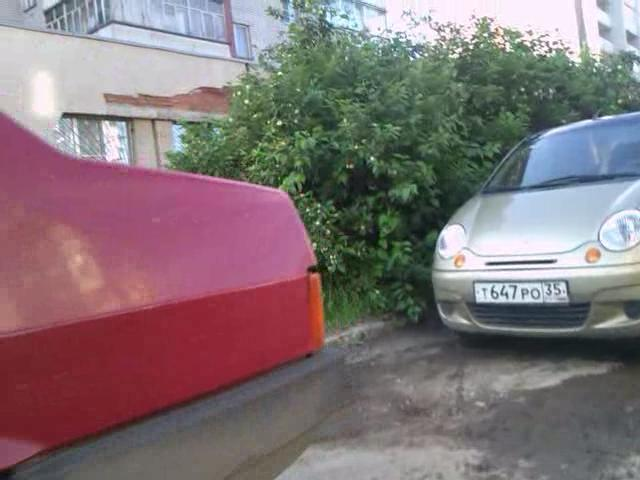license-plateSW: (474, 281, 570, 304)
